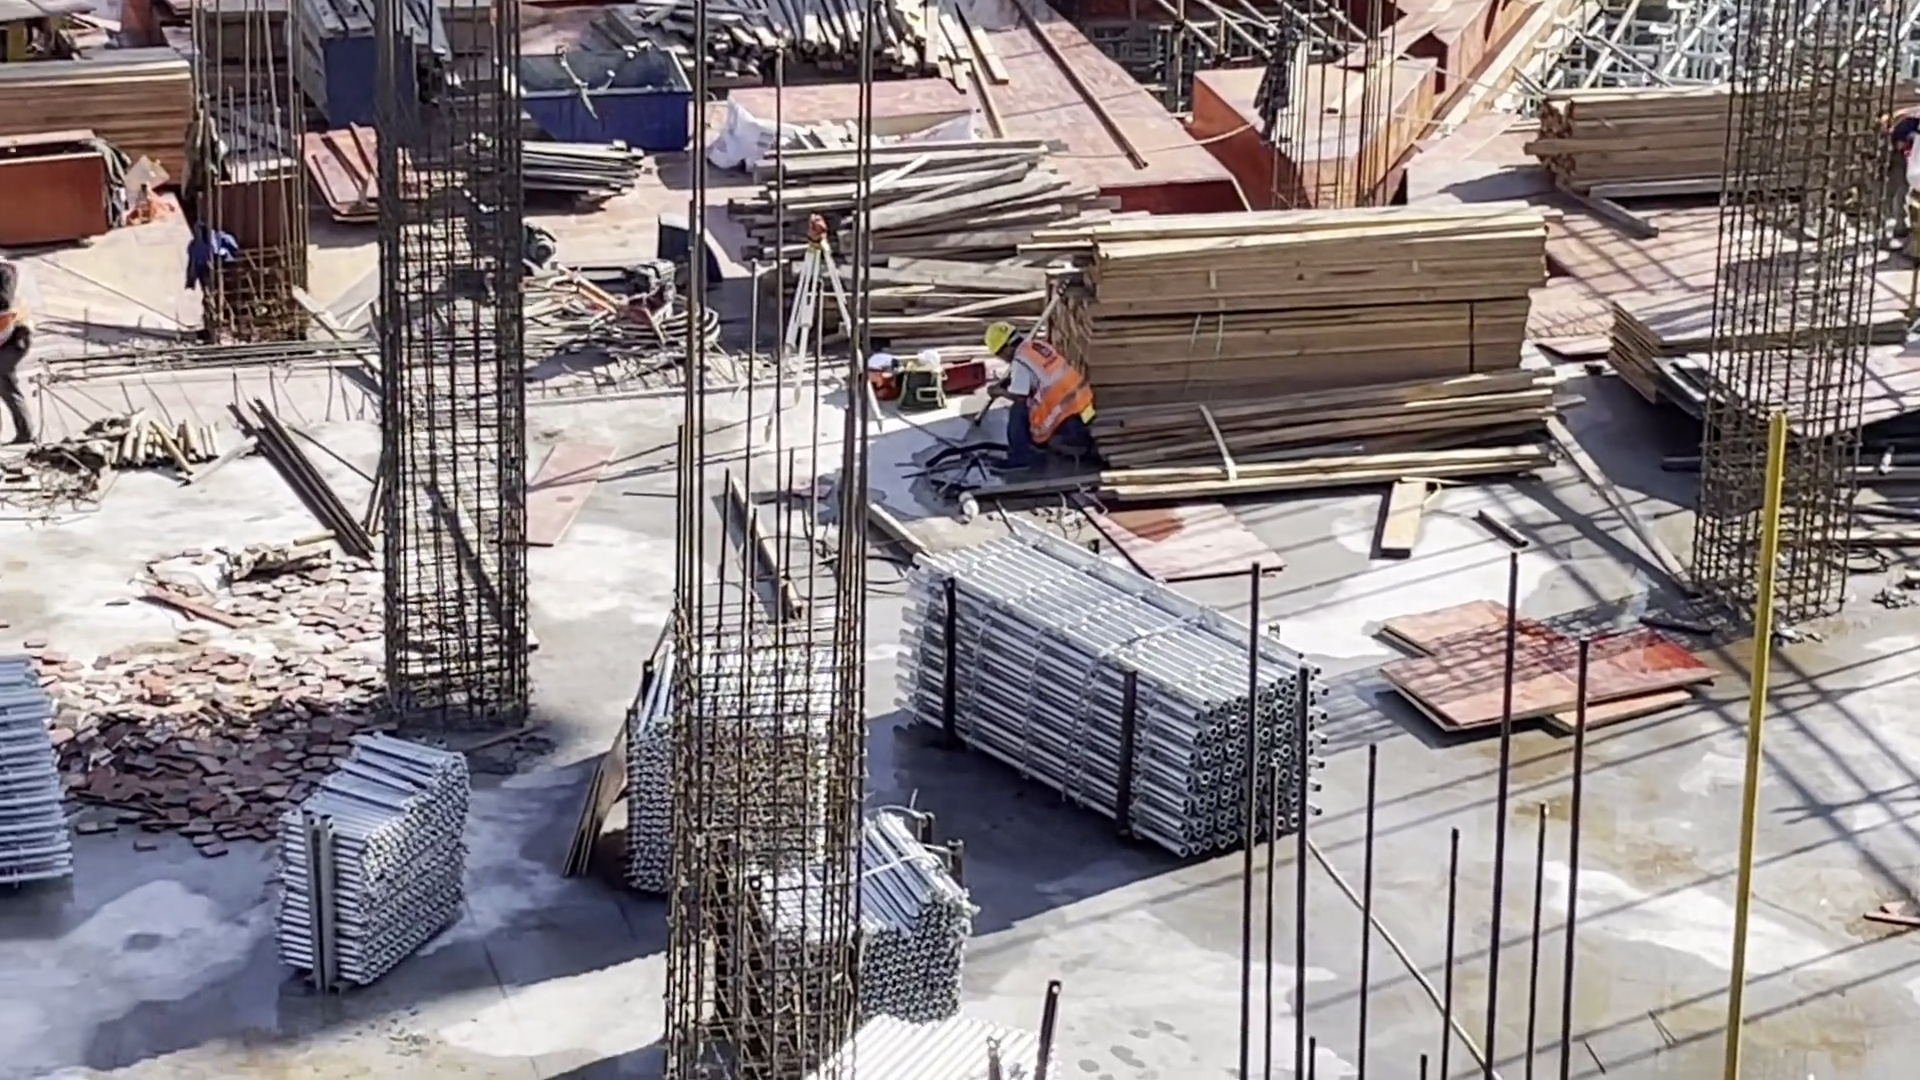board: (1610, 283, 1920, 445)
helmet: (985, 327, 1015, 353)
hopper: (489, 51, 693, 149)
person: (973, 326, 1101, 472), (1, 256, 44, 445)
scaffold: (896, 513, 1332, 872), (628, 612, 977, 1048), (285, 733, 469, 985), (3, 649, 78, 892)
vest: (1017, 342, 1092, 443)
wood: (1018, 199, 1562, 499), (732, 139, 1088, 355), (1518, 71, 1862, 232), (615, 1, 1003, 93), (1, 56, 189, 176)
